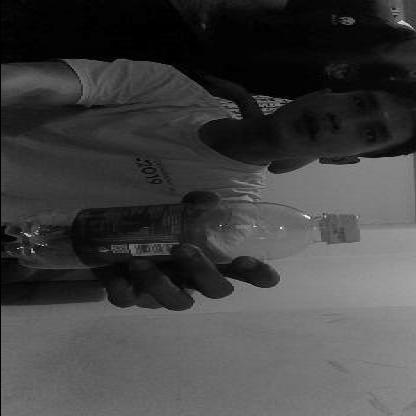plastic_bottles: (3, 201, 361, 272)
